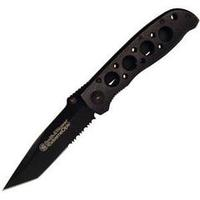knife: (2, 12, 184, 192)
